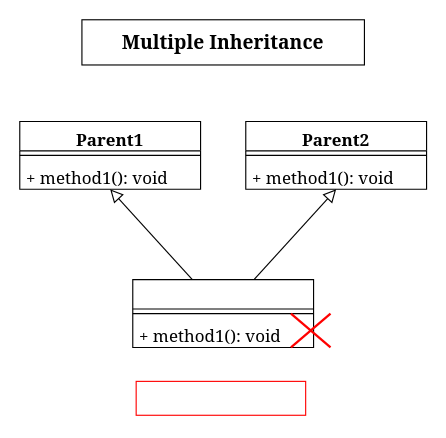
Some shapes in this 446 by 438 pixel diagram are drawn without their labels. The shapes that lost their labels are listed below. From the top down, each one's box as (x1, y1, x2, y2) in pixels, then its label:
(132, 279, 314, 347): Child
(135, 380, 306, 415): Ambiguity Problem
